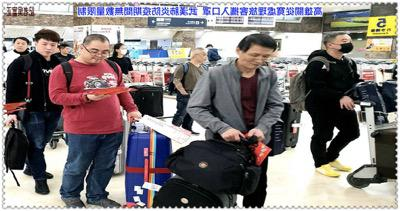with_mask: (334, 37, 354, 55), (119, 47, 128, 56)
without_mask: (242, 51, 271, 70), (83, 46, 110, 64), (37, 41, 58, 58), (13, 41, 27, 52), (197, 52, 208, 64), (63, 47, 70, 54)
